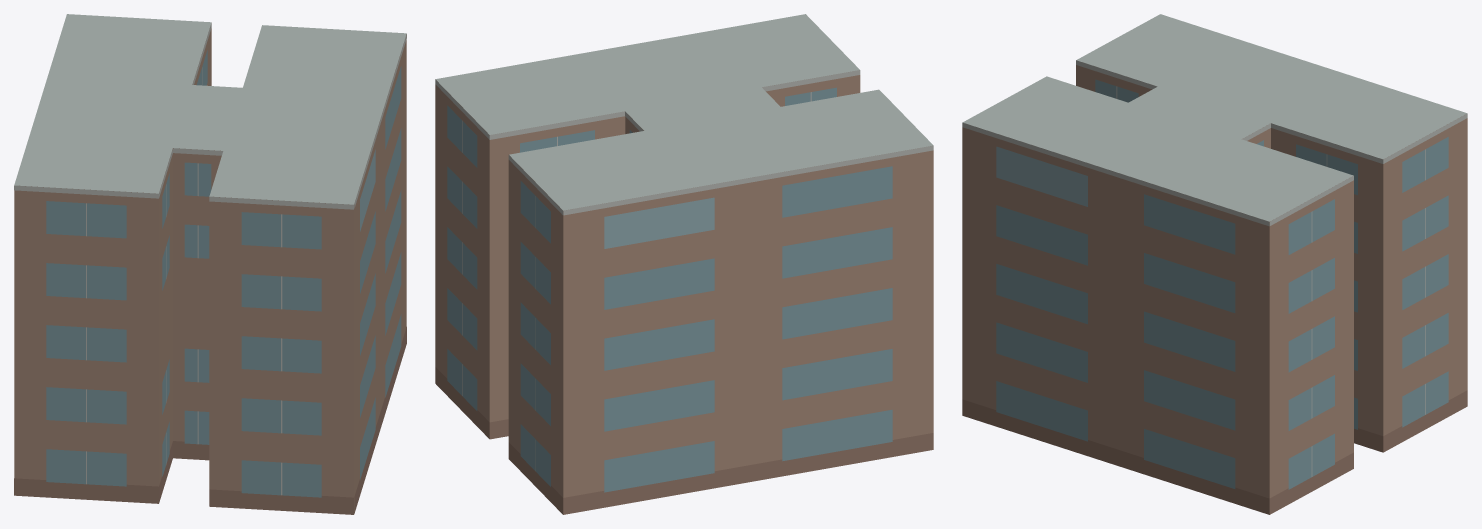
Rendered from survey-upis-33010344.glb.
3 views of the same model, side by side, from view 1: azimuth 30°, elevation 25°; view 2: azimuth 150°, elevation 25°; view 3: azimuth 270°, elevation 25° (orthographic). The views are drawn at different scales.
Visible parts, largest first — view 1: survey-upis-33010344.tmp; view 2: survey-upis-33010344.tmp; view 3: survey-upis-33010344.tmp.
Part boxes in pixels (x1,y1,x2,y2): survey-upis-33010344.tmp: (14, 14, 406, 514); survey-upis-33010344.tmp: (435, 14, 933, 514); survey-upis-33010344.tmp: (962, 14, 1467, 514).
Bounding box in the file's own units: 23.11 × 15.2 × 23.74.
